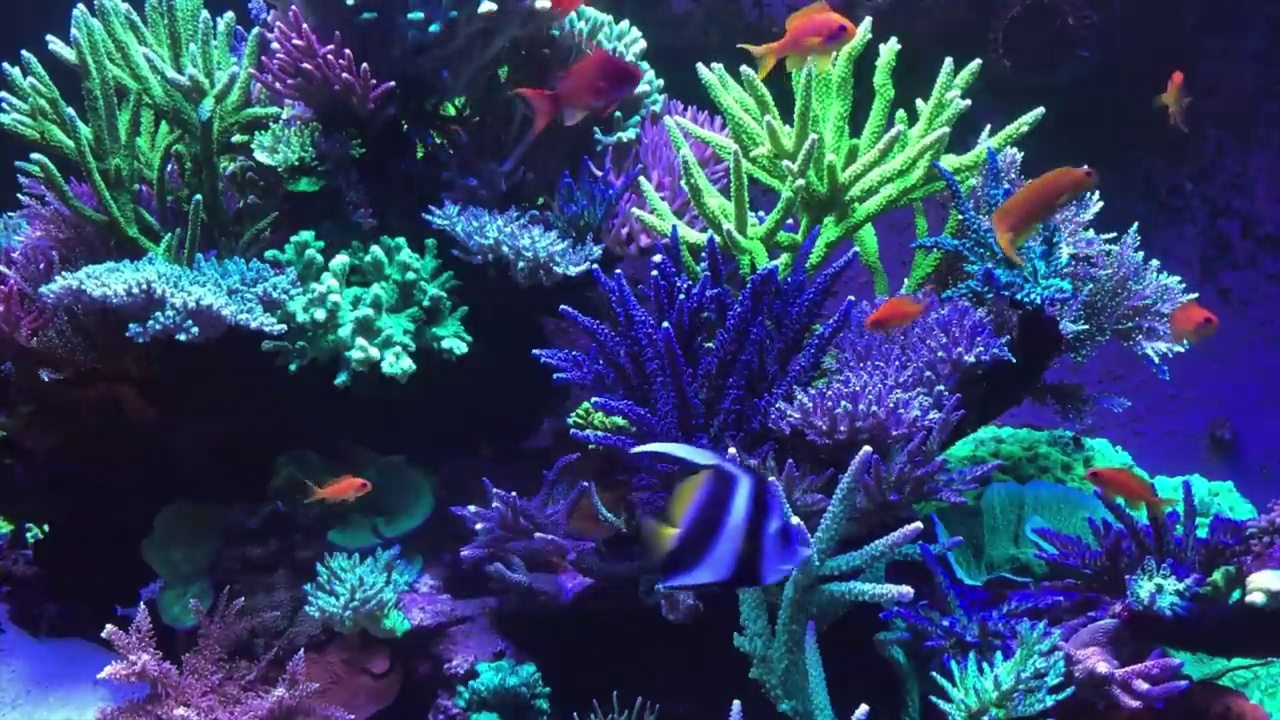fish: (604, 443, 816, 592), (509, 47, 646, 146), (991, 164, 1101, 265), (735, 1, 860, 82), (1086, 468, 1179, 518), (864, 289, 929, 334), (1165, 298, 1223, 347), (1156, 67, 1194, 133), (302, 473, 375, 505)
